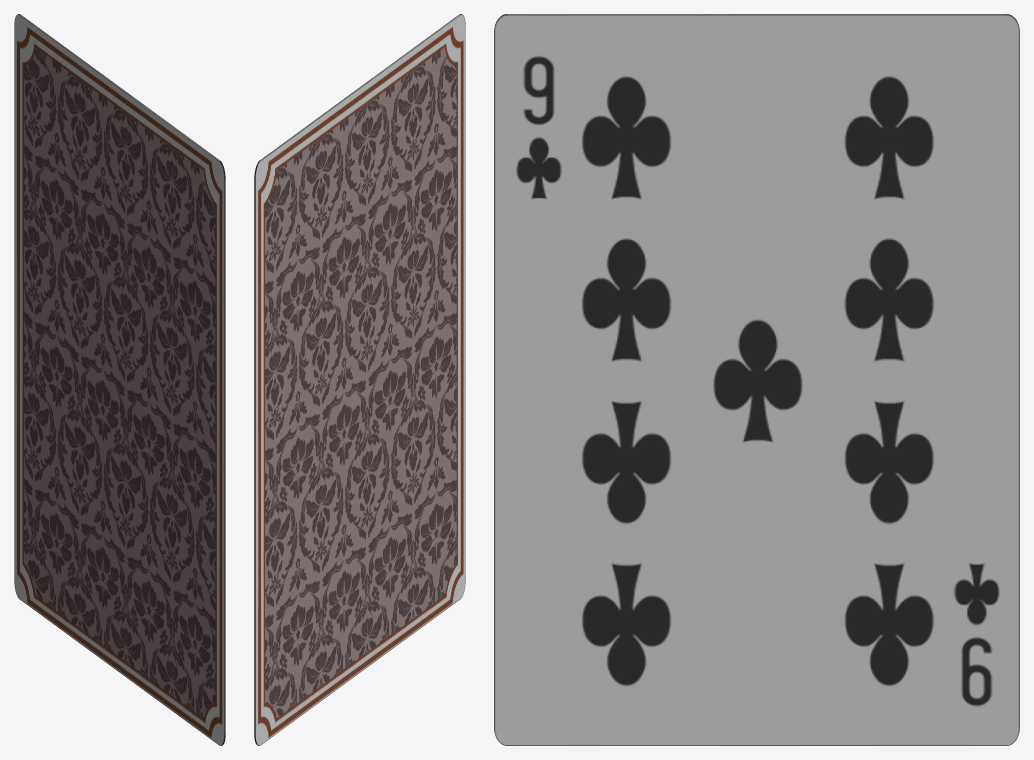
File: clover9.glb
3 renders of one model, left to right at view 1: azimuth 30°, elevation 25°; view 2: azimuth 150°, elevation 25°; view 3: azimuth 270°, elevation 25°, orthographic. The views are drawn at different scales.
Parts seen in each view (by area): view 1: Cube; view 2: Cube; view 3: Cube.
Part boxes in pixels (x1,y1,x2,y2): Cube: (14, 14, 225, 745); Cube: (254, 14, 465, 745); Cube: (494, 14, 1019, 745).
Bounding box in the file's own units: 0.036 × 17.8 × 11.6.
Materials: 1 (1 with a texture image).
